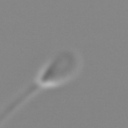normal: (1, 82, 38, 120)
